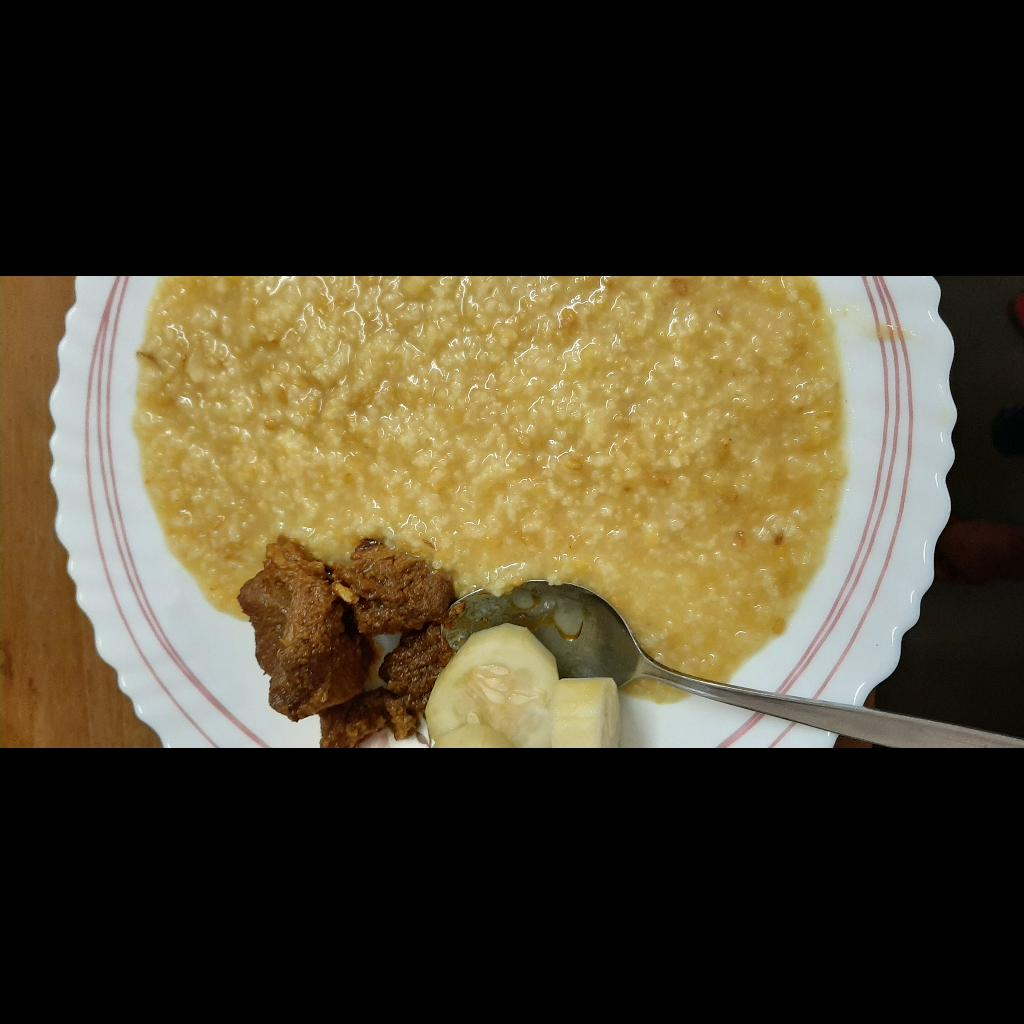banana: (0, 506, 214, 918)
cucumber: (0, 711, 132, 901)
khichuri: (46, 410, 469, 1024), (3, 515, 207, 911)
